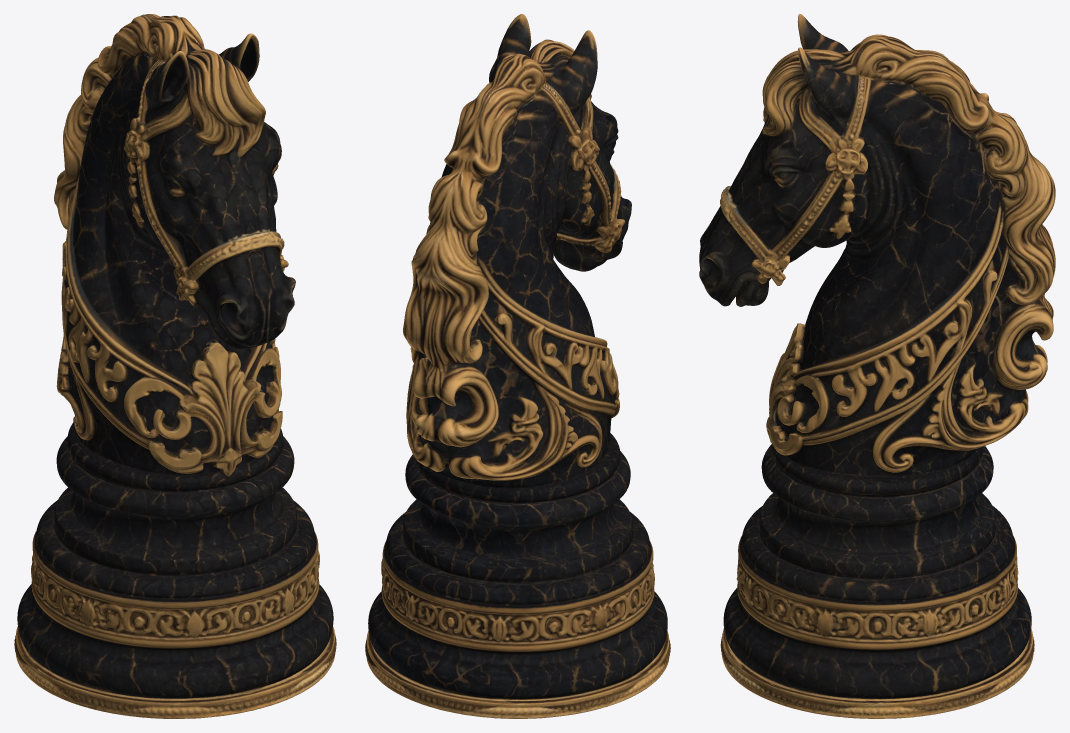
Rendered from baroque_knight_black_opt.glb.
3 renders of one model, left to right at view 1: azimuth 30°, elevation 25°; view 2: azimuth 150°, elevation 25°; view 3: azimuth 270°, elevation 25°, orthographic. The views are drawn at different scales.
Bounding box in the file's own units: 0.8675 × 1.9 × 0.9859.
1 material, 1 textured.
